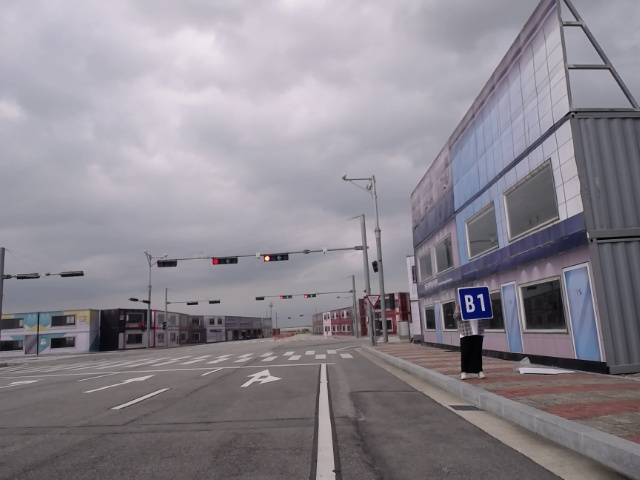delivery_b1: (458, 287, 493, 320)
left_green_4: (212, 257, 238, 265), (264, 253, 288, 261), (280, 295, 292, 299), (304, 294, 316, 298)
